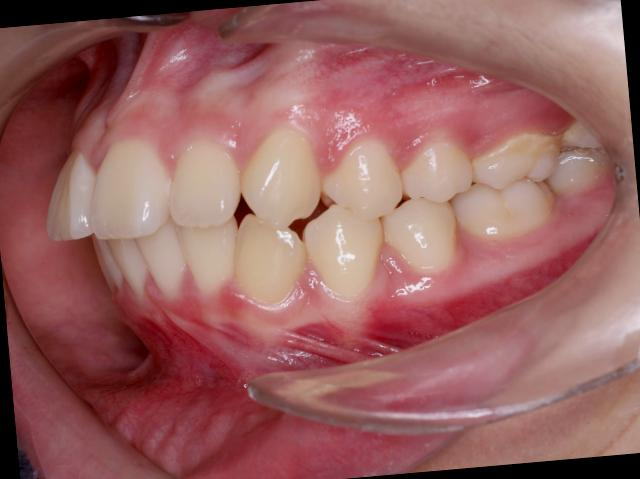canine class II 1/4: (218, 110, 388, 315)
molar class I: (444, 125, 568, 252)
